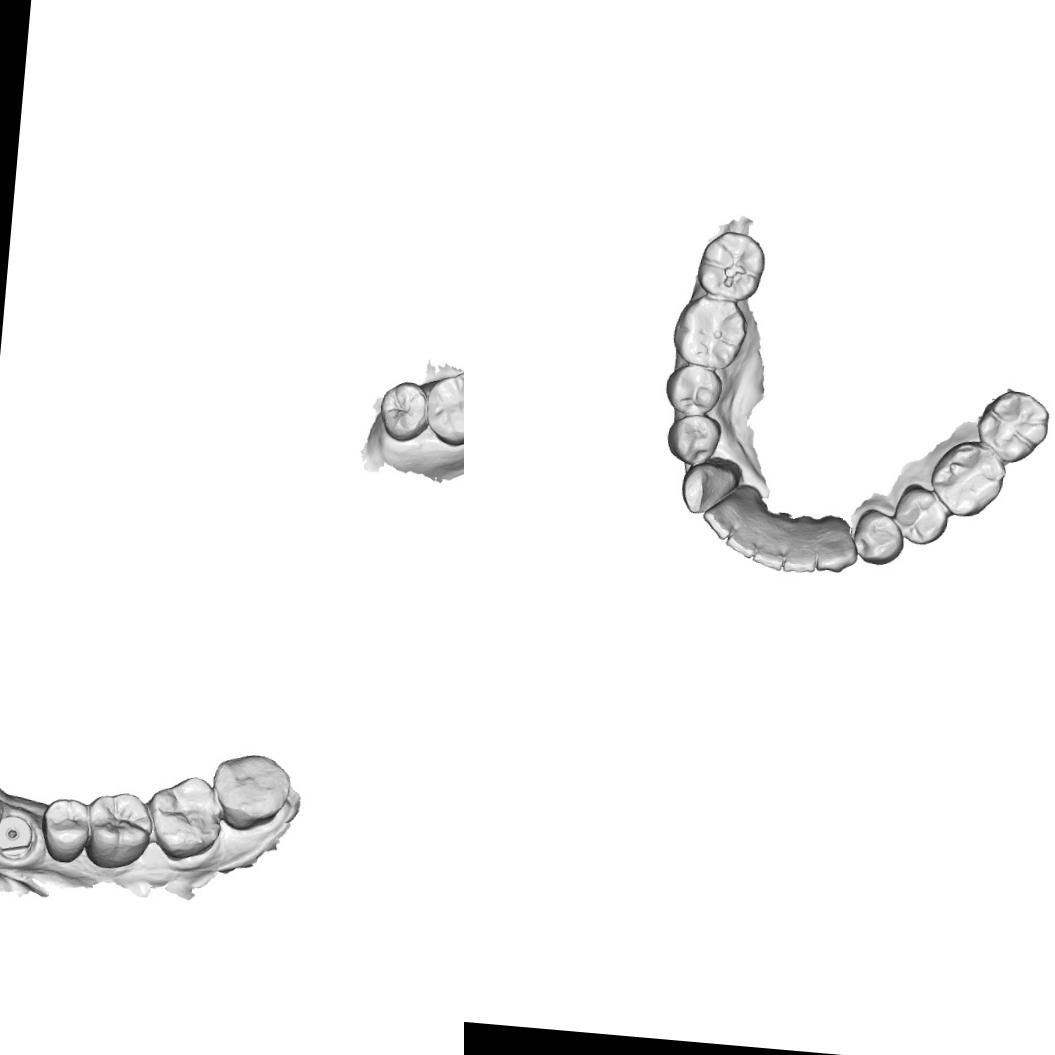canine: (677, 458, 740, 518), (814, 513, 860, 574)
implant: (0, 812, 37, 862)
incisor: (780, 514, 820, 574), (700, 496, 740, 542), (750, 532, 786, 572), (723, 523, 758, 560)
molar: (142, 771, 225, 863), (207, 750, 293, 834), (926, 436, 1008, 520), (669, 292, 749, 372), (974, 386, 1051, 466), (693, 226, 768, 303), (376, 377, 432, 446), (422, 364, 464, 448)
premolar: (81, 787, 156, 872), (889, 483, 953, 547), (37, 795, 92, 865), (662, 360, 724, 418), (850, 506, 906, 566), (664, 412, 723, 468)
